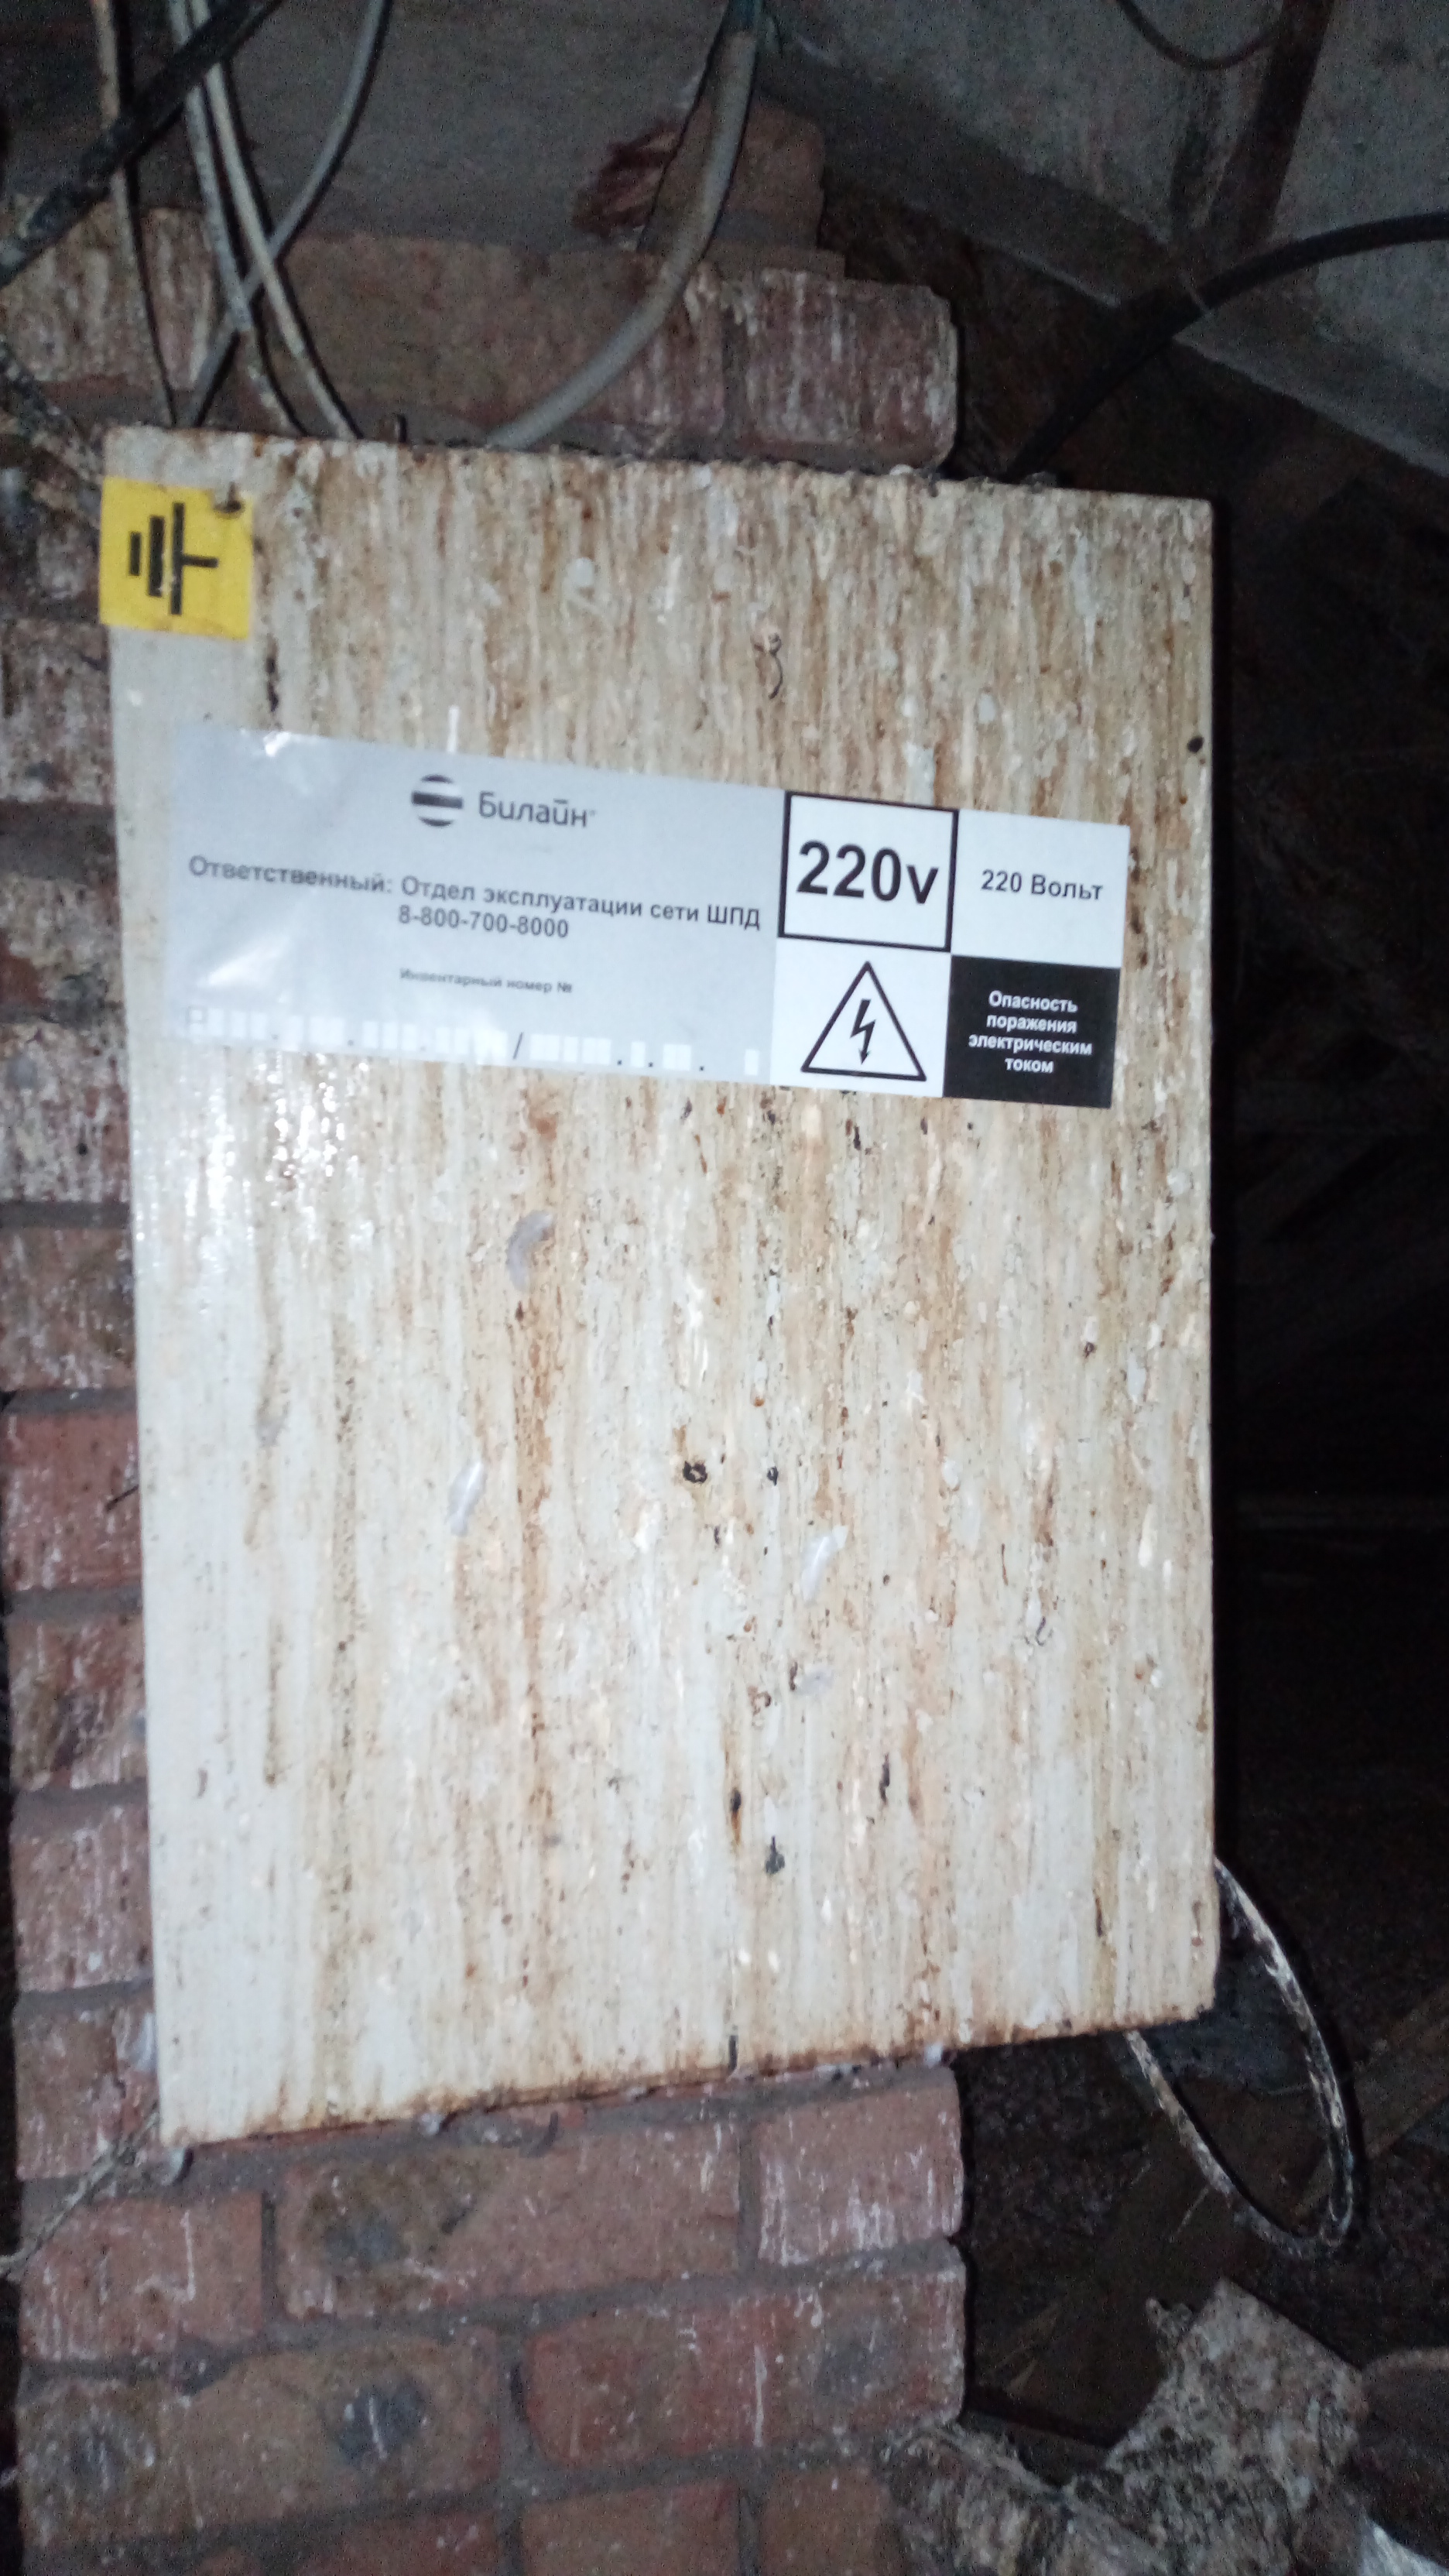sv-5: (81, 398, 1242, 2173)
